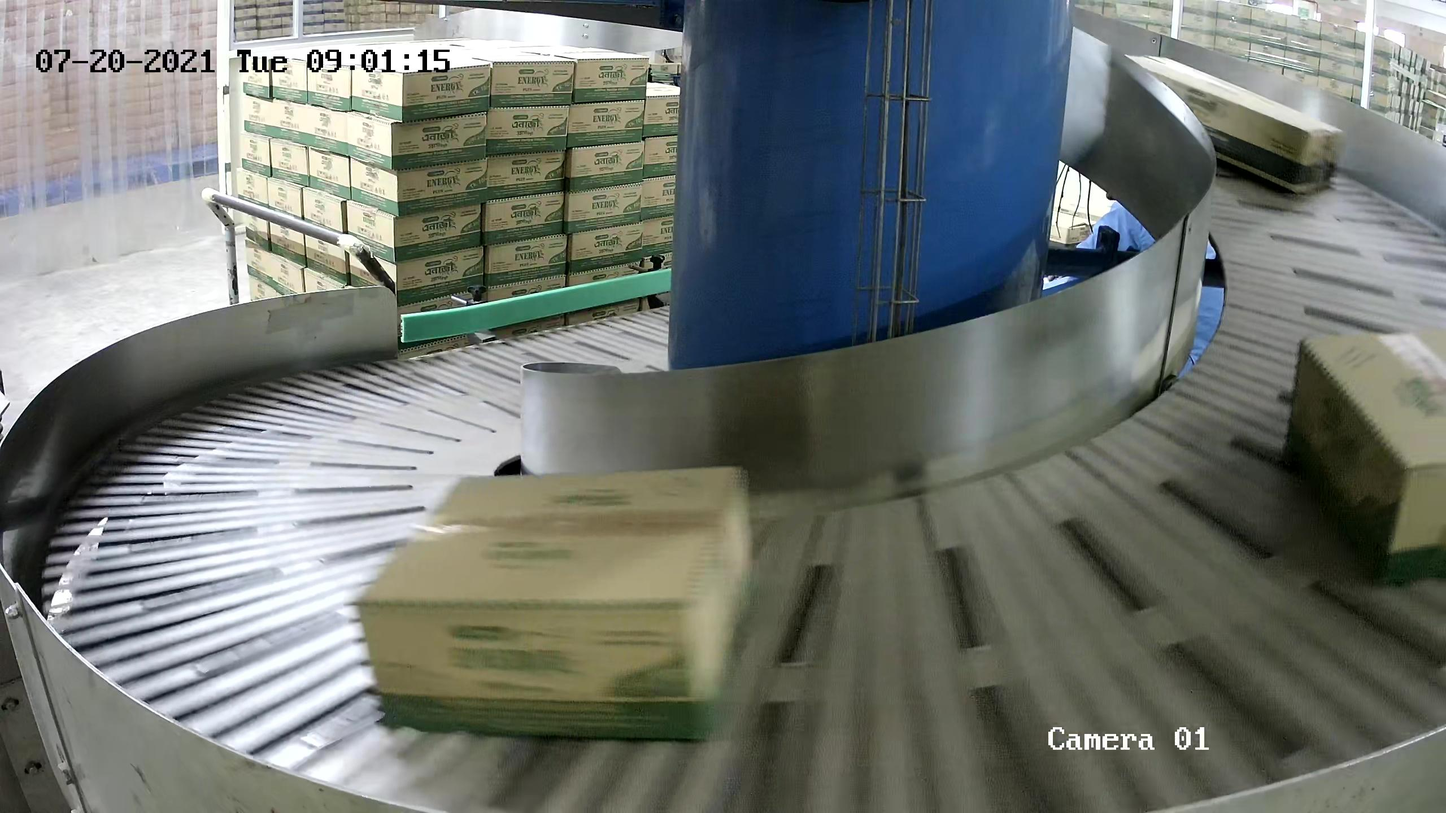Box: (347, 464, 759, 742), (1283, 325, 1445, 587), (1122, 52, 1344, 195)
